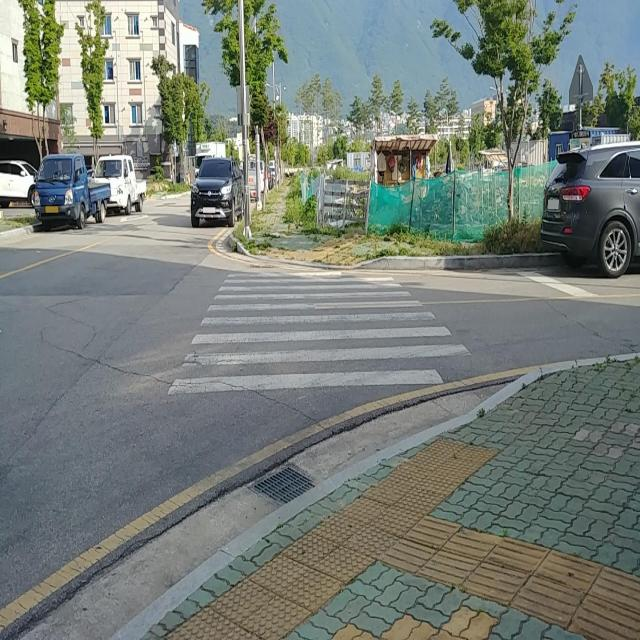횡단보도: (166, 270, 472, 396)
